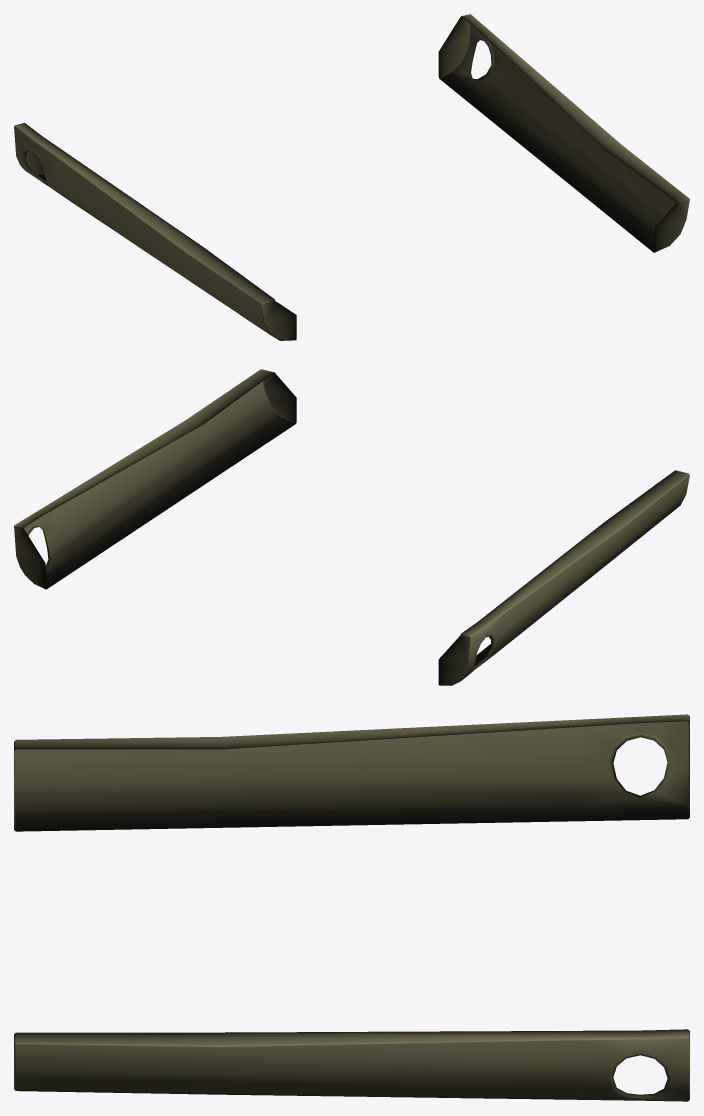
File: Viper_Skirt_03_Duco.fbx
The picture shows the model from 3 angles, top to bottom: view 1: azimuth 30°, elevation 25°; view 2: azimuth 150°, elevation 25°; view 3: azimuth 270°, elevation 25°; orthographic projection. The views are drawn at different scales.
Visible parts, largest first — view 1: Viper_Skirt_03_Duco; view 2: Viper_Skirt_03_Duco; view 3: Viper_Skirt_03_Duco.
Part boxes in pixels (x1,y1,x2,y2): Viper_Skirt_03_Duco: (14,14,689,340); Viper_Skirt_03_Duco: (14,369,689,685); Viper_Skirt_03_Duco: (14,714,689,1101).
Size of the model in its own units: 190 by 22.67 by 168.
